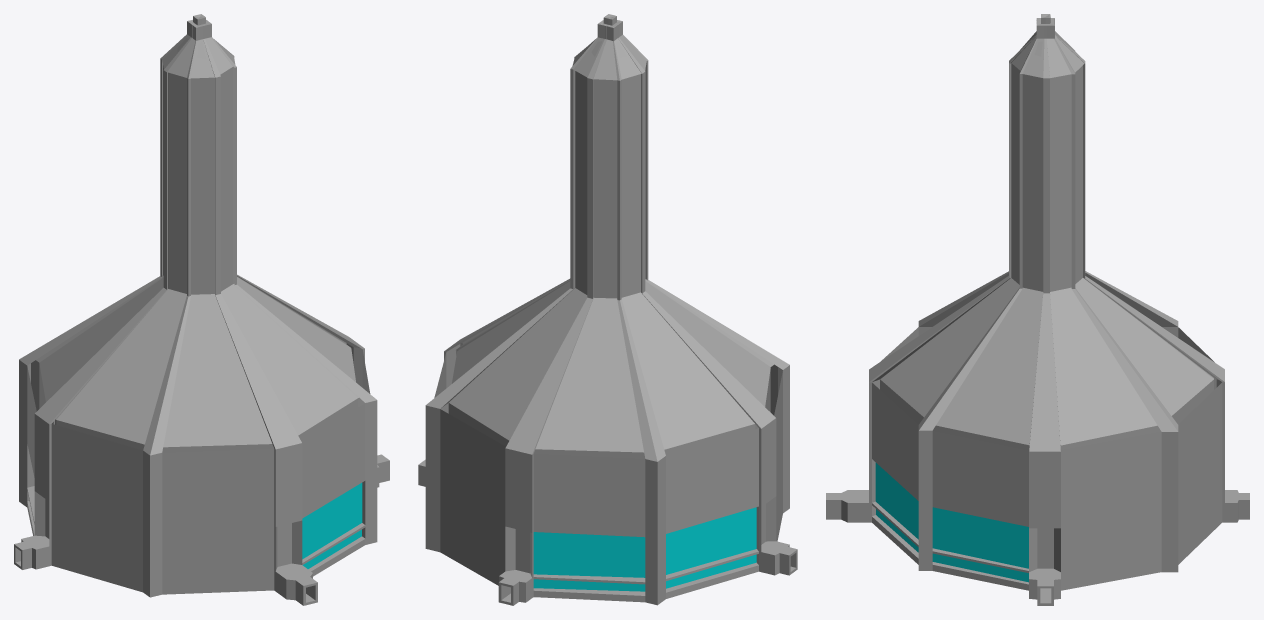
The model's file is HubRoomFBX.fbx.
The picture shows the model from 3 angles, left to right: view 1: azimuth 30°, elevation 25°; view 2: azimuth 150°, elevation 25°; view 3: azimuth 270°, elevation 25°; orthographic projection. The views are drawn at different scales.
Parts seen in each view (by area): view 1: DaraghsHub, TopWindow4; view 2: DaraghsHub, TopWindow2, TopWindow1, BottomWindow2, BottomWindow1; view 3: DaraghsHub, TopWindow3, TopWindow4, BottomWindow3.
Boxes of the visible parts, left/top/right/bottom form: DaraghsHub: left=14, top=14, right=389, bottom=605; TopWindow4: left=302, top=483, right=362, bottom=559; DaraghsHub: left=418, top=14, right=797, bottom=605; TopWindow2: left=533, top=532, right=645, bottom=577; TopWindow1: left=666, top=507, right=756, bottom=574; BottomWindow2: left=533, top=579, right=645, bottom=591; BottomWindow1: left=666, top=554, right=756, bottom=588; DaraghsHub: left=826, top=14, right=1249, bottom=605; TopWindow3: left=932, top=507, right=1028, bottom=568; TopWindow4: left=875, top=462, right=918, bottom=539; BottomWindow3: left=932, top=553, right=1028, bottom=582.
Bounding box in the file's own units: 152 × 200 × 154.
